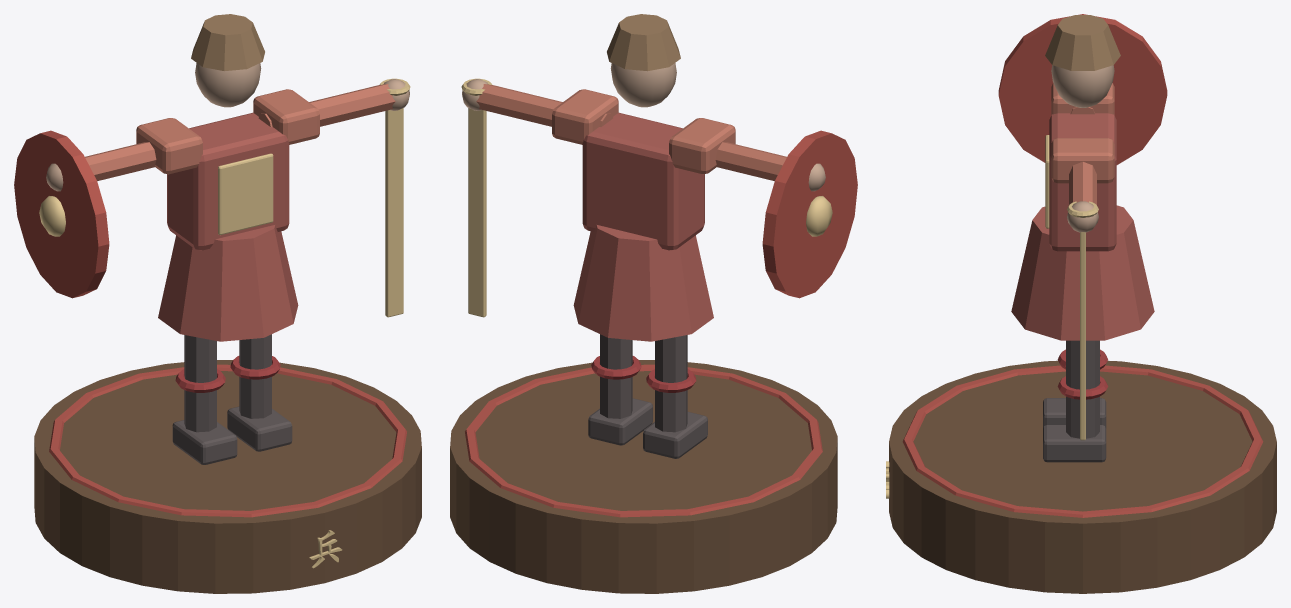
The model's file is soldier_red.glb.
The picture shows the model from 3 angles, left to right: view 1: azimuth 30°, elevation 25°; view 2: azimuth 150°, elevation 25°; view 3: azimuth 270°, elevation 25°; orthographic projection.
Visible parts, largest first — view 1: base, s_skirt, s_shield, s_cuirass, base_trim_top, s_plastron, s_dao_blade, s_pibian, s_leg_-0.075, s_pauldron_-1, s_pauldron_1, s_leg_0.075 (+8 smaller); view 2: base, s_skirt, s_cuirass, s_shield, base_trim_top, s_dao_blade, s_pibian, s_leg_-0.075, s_pauldron_-1, s_pauldron_1, s_leg_0.075, s_arm_1 (+7 smaller); view 3: base, s_skirt, s_shield, base_trim_top, s_cuirass, s_pibian, s_leg_0.075, s_pauldron_1, s_boot_0.075, s_head, s_dao_blade, s_arm_1 (+4 smaller).
Boxes of the visible parts, left/top/right/bottom form: base: left=34, top=360, right=421, bottom=593; s_skirt: left=158, top=225, right=298, bottom=341; s_shield: left=14, top=130, right=109, bottom=298; s_cuirass: left=167, top=112, right=289, bottom=250; base_trim_top: left=49, top=364, right=406, bottom=517; s_plastron: left=218, top=153, right=273, bottom=235; s_dao_blade: left=385, top=108, right=403, bottom=317; s_pibian: left=191, top=14, right=264, bottom=71; s_leg_-0.075: left=184, top=335, right=216, bottom=432; s_pauldron_-1: left=136, top=118, right=202, bottom=174; s_pauldron_1: left=253, top=89, right=319, bottom=144; s_leg_0.075: left=239, top=334, right=271, bottom=418; base: left=450, top=360, right=837, bottom=593; s_skirt: left=573, top=225, right=713, bottom=341; s_cuirass: left=582, top=112, right=704, bottom=250; s_shield: left=762, top=130, right=857, bottom=298; base_trim_top: left=465, top=364, right=822, bottom=517; s_dao_blade: left=468, top=108, right=486, bottom=317; s_pibian: left=607, top=14, right=680, bottom=71; s_leg_-0.075: left=655, top=335, right=687, bottom=432; s_pauldron_-1: left=669, top=118, right=735, bottom=174; s_pauldron_1: left=552, top=89, right=618, bottom=144; s_leg_0.075: left=600, top=334, right=632, bottom=418; s_arm_1: left=476, top=84, right=613, bottom=126; base: left=889, top=360, right=1276, bottom=593; s_skirt: left=1011, top=205, right=1154, bottom=340; s_shield: left=998, top=14, right=1167, bottom=164; base_trim_top: left=902, top=365, right=1263, bottom=517; s_cuirass: left=1049, top=113, right=1116, bottom=251; s_pibian: left=1045, top=15, right=1120, bottom=70; s_leg_0.075: left=1066, top=340, right=1099, bottom=438; s_pauldron_1: left=1051, top=138, right=1114, bottom=183; s_boot_0.075: left=1043, top=425, right=1106, bottom=462; s_head: left=1051, top=65, right=1114, bottom=107; s_dao_blade: left=1080, top=232, right=1085, bottom=440; s_arm_1: left=1069, top=162, right=1096, bottom=204.
Size of the model in its own units: 0.998 by 1.27 by 0.927.
